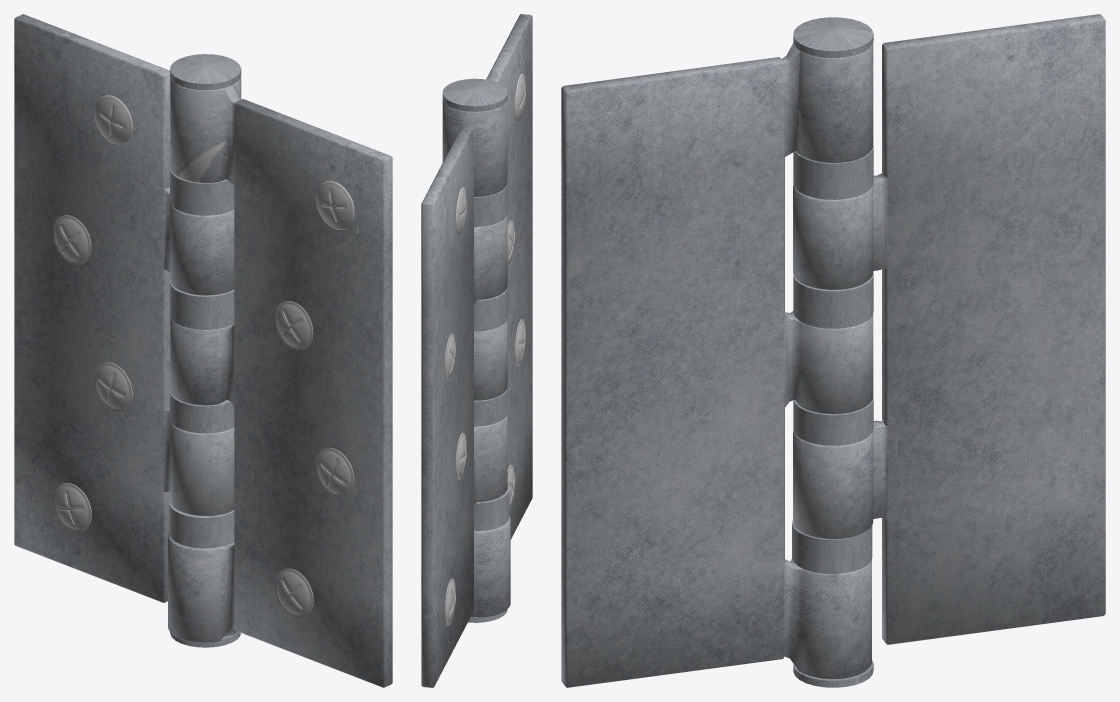
Rendered from DoorHinge.dae.
The picture shows the model from 3 angles, left to right: view 1: azimuth 30°, elevation 25°; view 2: azimuth 150°, elevation 25°; view 3: azimuth 270°, elevation 25°; orthographic projection. The views are drawn at different scales.
Visible parts, largest first — view 1: Right, Left, Rivets (×2), Mid; view 2: Left, Right, Mid, Rivets (×2); view 3: Right, Left, Mid.
Boxes of the visible parts, x1,y1,x2,y2 form: Right: [168, 76, 392, 687]; Left: [14, 14, 234, 602]; Rivets (×2): [52, 95, 354, 617]; Mid: [169, 54, 241, 647]; Left: [421, 126, 507, 687]; Right: [442, 14, 532, 617]; Mid: [442, 78, 509, 622]; Rivets (×2): [444, 73, 525, 625]; Right: [561, 43, 873, 687]; Left: [793, 14, 1105, 644]; Mid: [792, 17, 873, 687].
Size of the model in its own units: 2.82 by 10.86 by 8.26.
